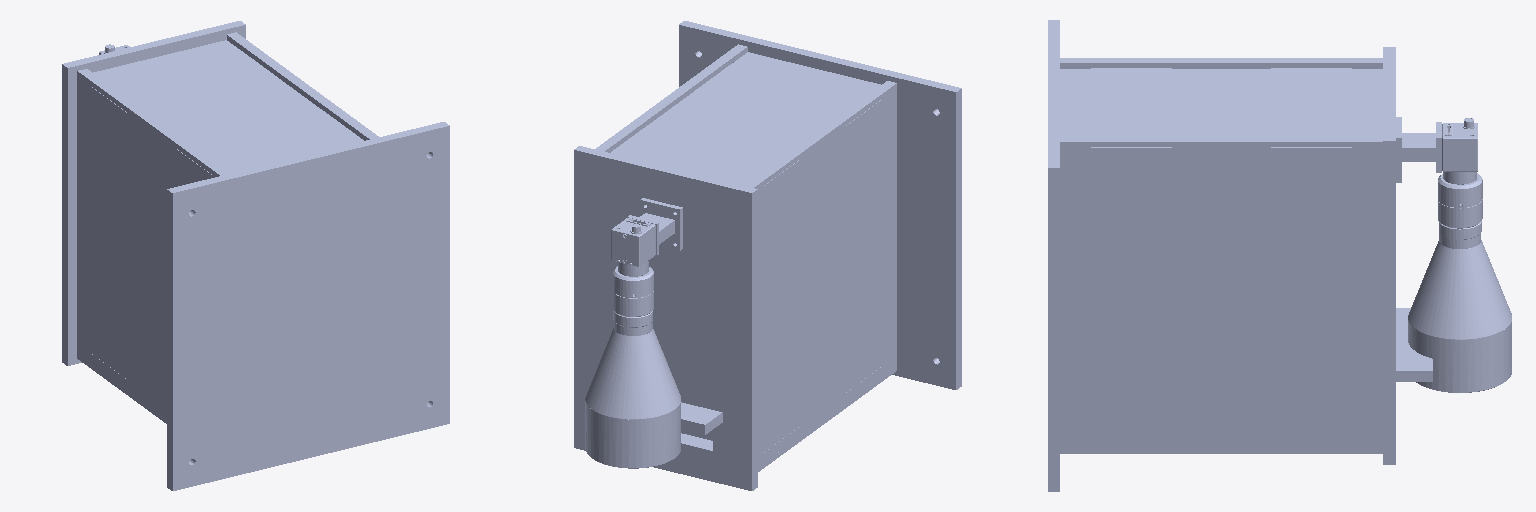
URDF robot description (camera_base):
<?xml version="1.0" encoding="utf-8"?>
<!-- This URDF was automatically created by SolidWorks to URDF Exporter! Originally created by [author] ([email redacted]) 
     Commit Version: 1.5.1-0-g916b5db  Build Version: 1.5.7152.31018
     For more information, please see http://wiki.ros.org/sw_urdf_exporter -->
<robot
  name="camera_base">
  <link
    name="camera_base">
    <inertial>
      <origin
        xyz="0 0 0"
        rpy="0 0 0" />
      <mass
        value="0" />
      <inertia
        ixx="0"
        ixy="0"
        ixz="0"
        iyy="0"
        iyz="0"
        izz="0" />
    </inertial>
    <visual>
      <origin
        xyz="0 0 0"
        rpy="1.5707963267949 0 0" />
      <geometry>
        <mesh
          filename="package://camera_base/meshes/camera_base.STL" />
      </geometry>
      <material
        name="">
        <color
          rgba="0.79216 0.81961 0.93333 1" />
        <!--  
        <texture
          filename="package://camera_base/textures/" />
        -->
      </material>
    </visual>
    <collision>
      <origin
        xyz="0 0 0"
        rpy="1.5707963267949 0 0" />
      <geometry>
        <mesh
          filename="package://camera_base/meshes/camera_base.STL" />
      </geometry>
    </collision>
  </link>
</robot>

--- What the picture shows (computed from the rendered views, not written in the file) ---
3 views of the same robot in one strip: view 1: azimuth 30°, elevation 25°; view 2: azimuth 150°, elevation 25°; view 3: azimuth 270°, elevation 25° (orthographic).
Robot: camera_base — 1 links, 0 joints (none); root link camera_base; default pose: every joint at zero.
Visible links, largest first — view 1: camera_base; view 2: camera_base; view 3: camera_base.
Boxes of the visible links, x1,y1,x2,y2 form: camera_base: (62,21,449,490); camera_base: (574,21,961,490); camera_base: (1048,20,1511,491).
Size in the robot's own frame: 0.28 by 0.374 by 0.2875 metres.
Meshes: 1 distinct files referenced, 1 mesh visuals loaded (1 binary STL).